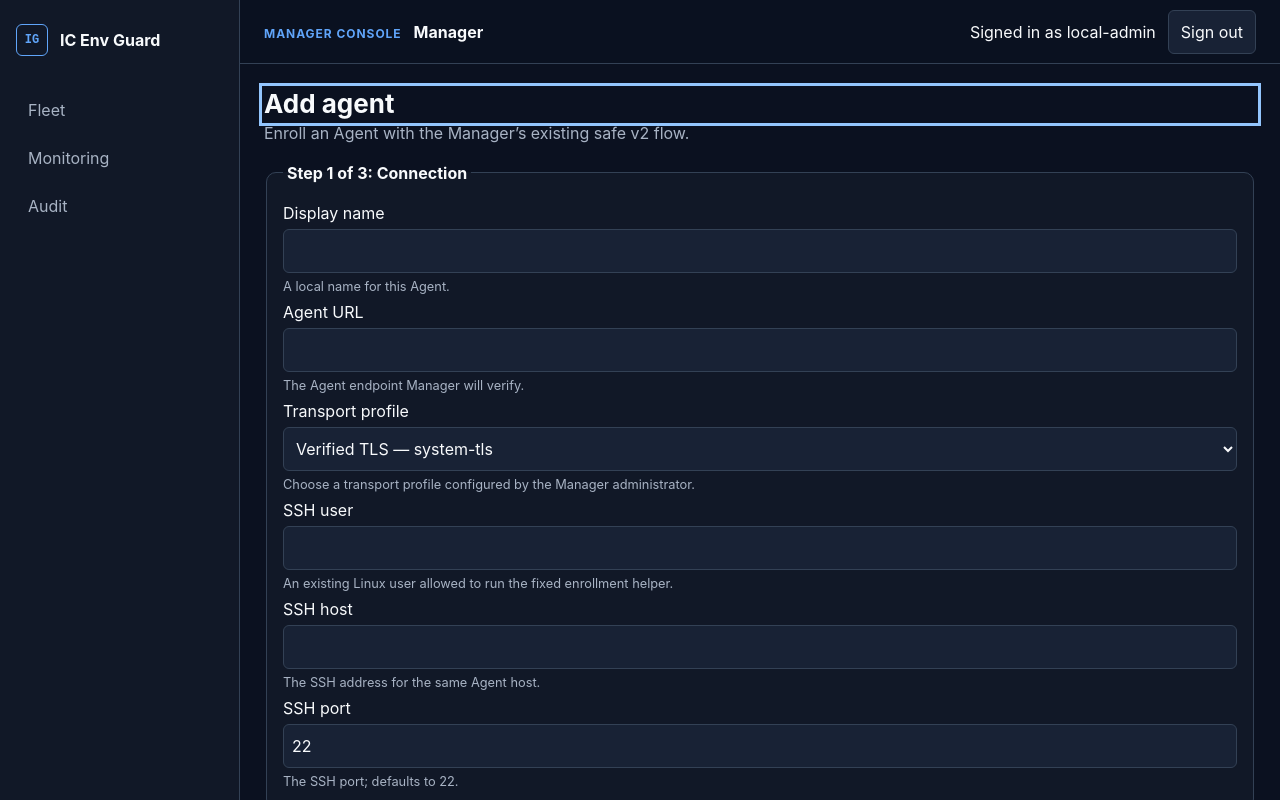
Test: Add agent flow › starts automatic SSH enrollment without rendering a pending secret
The image size is (1280, 800).
Type "Alpha" into the field labelled "Display name" at (760, 250), box [283,228,1237,272]
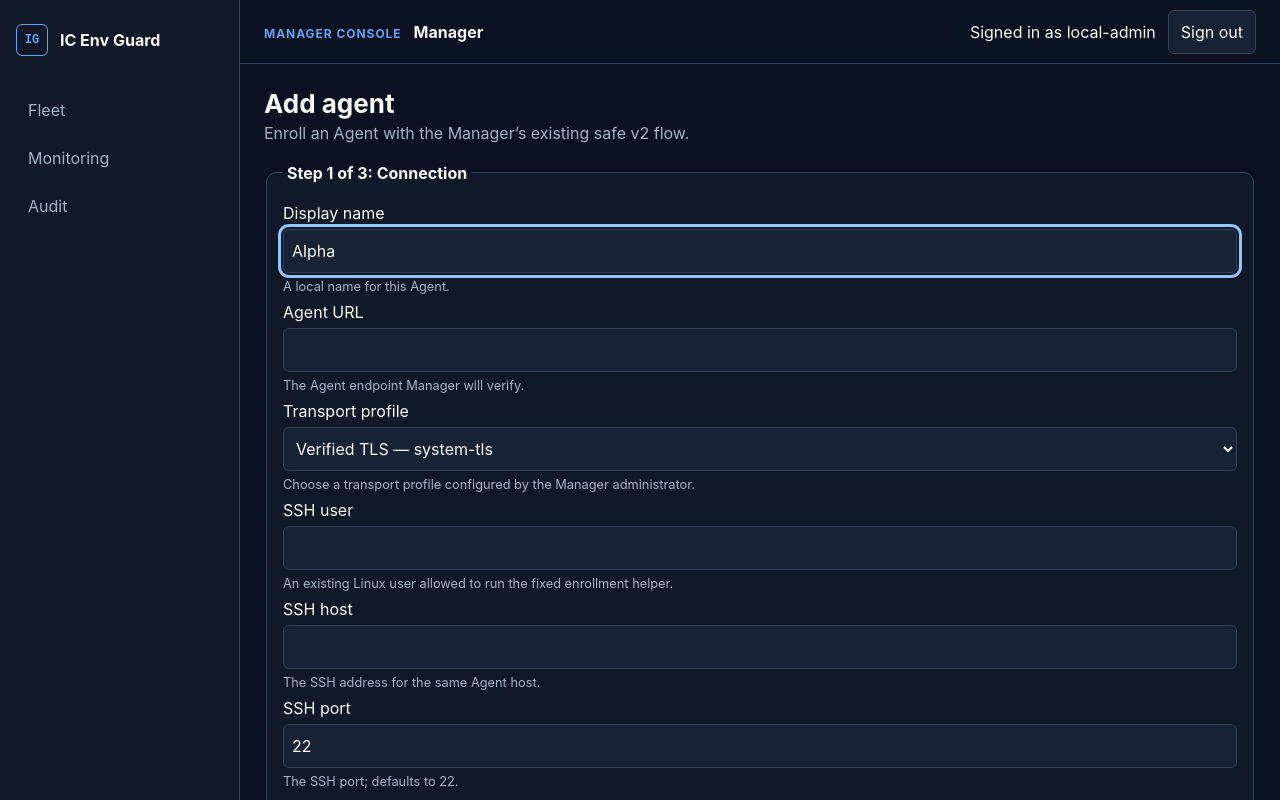
Type "https://10.0.0.4:8765" into the field labelled "Agent URL" at (760, 350), box [283,328,1237,372]
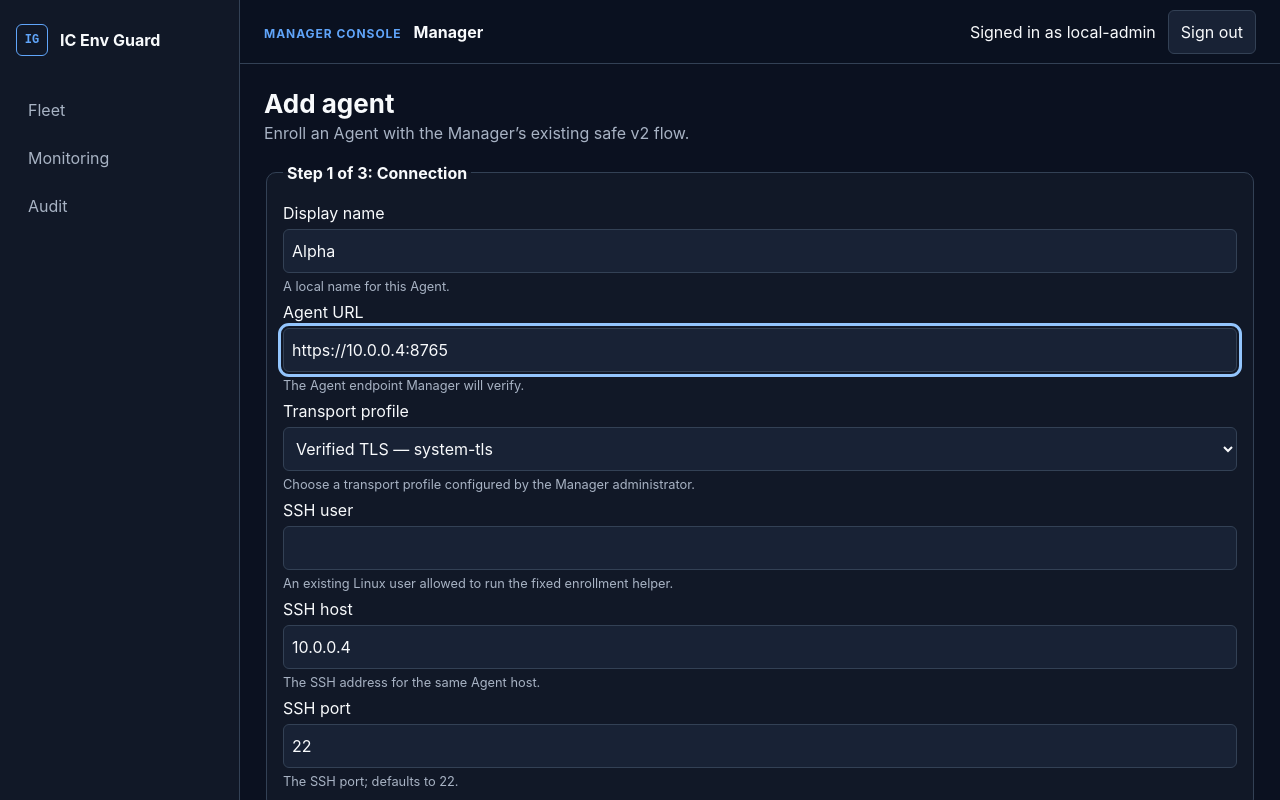
Type "edaops" into the field labelled "SSH user" at (760, 548), box [283,526,1237,570]
(page scrolled)
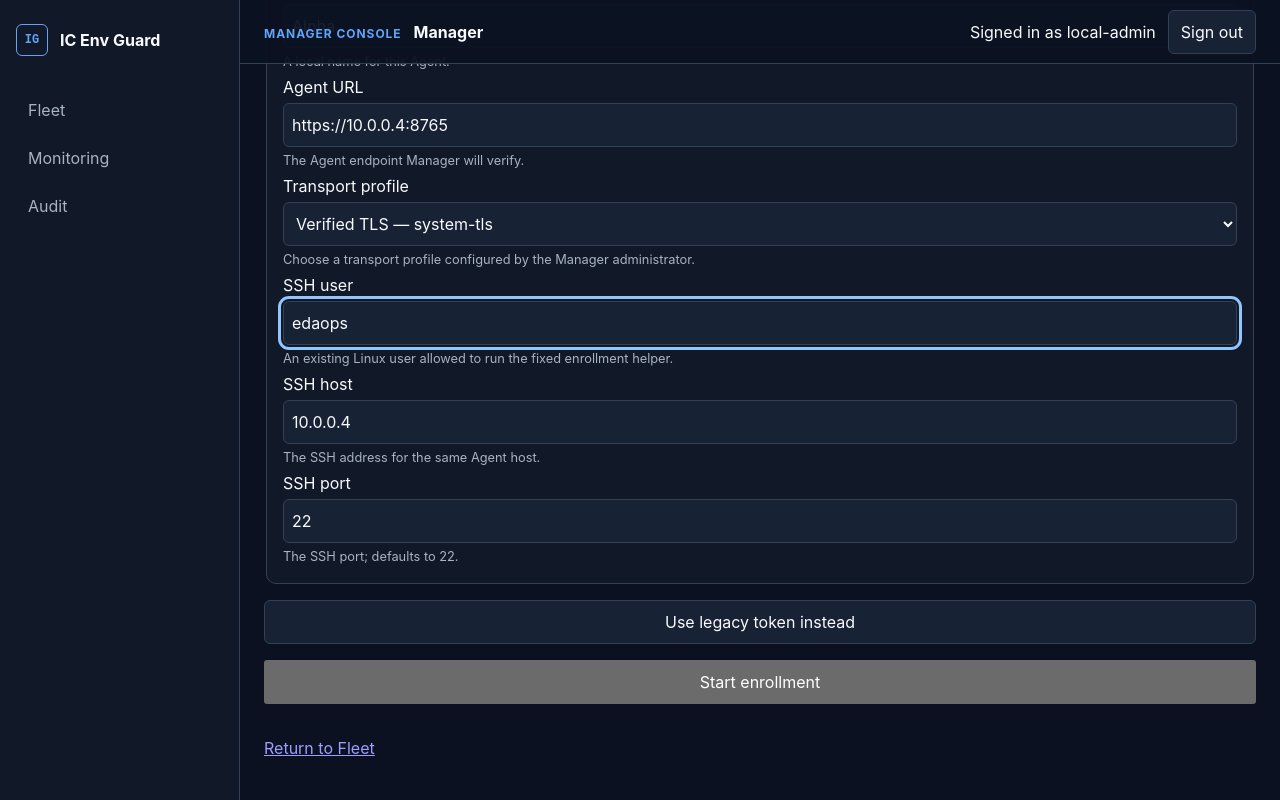
Check: the field labelled "SSH host" holds "10.0.0.4", box [283,400,1237,444]
Click the button "Start enrollment" at (760, 682), box [264,660,1256,704]
(page scrolled)
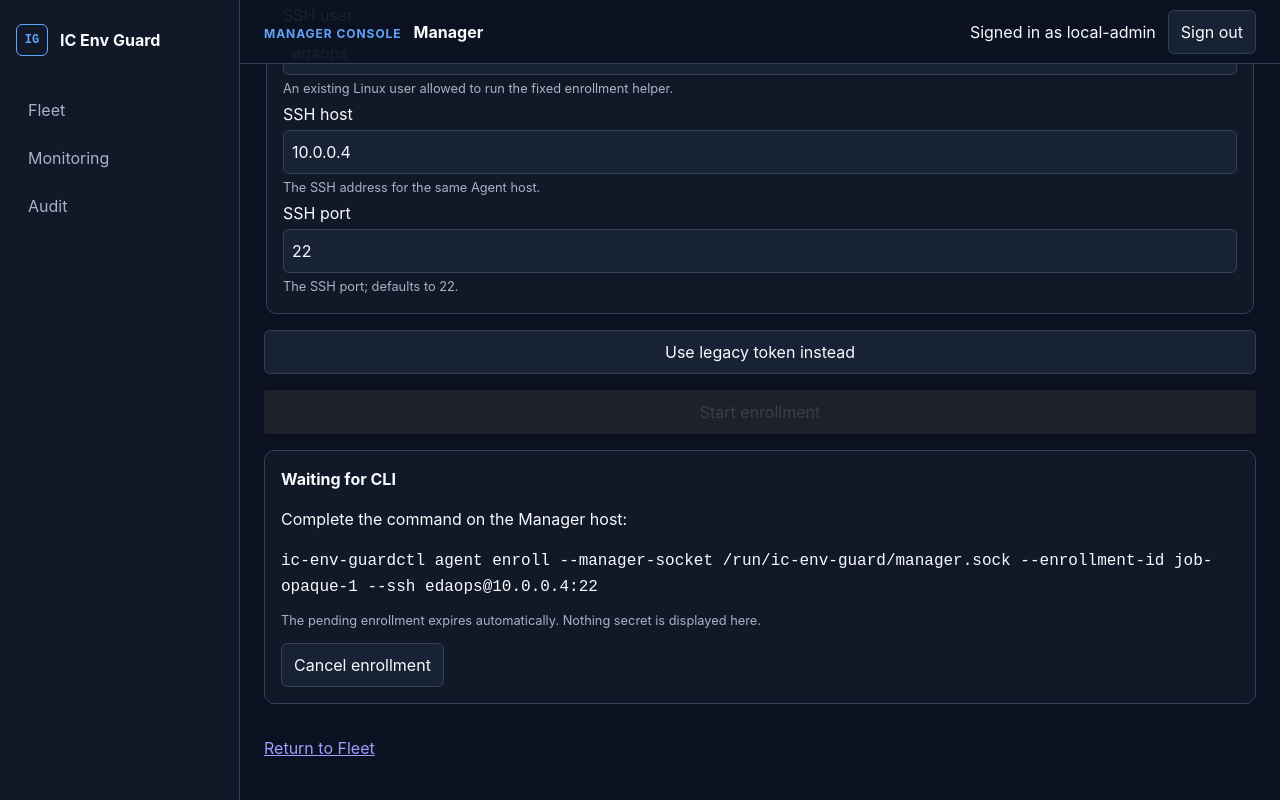
Check: the heading "Waiting for CLI" is shown, box [281,469,396,489]
Check: the text "ic-env-guardctl agent enroll" is shown, box [281,552,1212,596]
